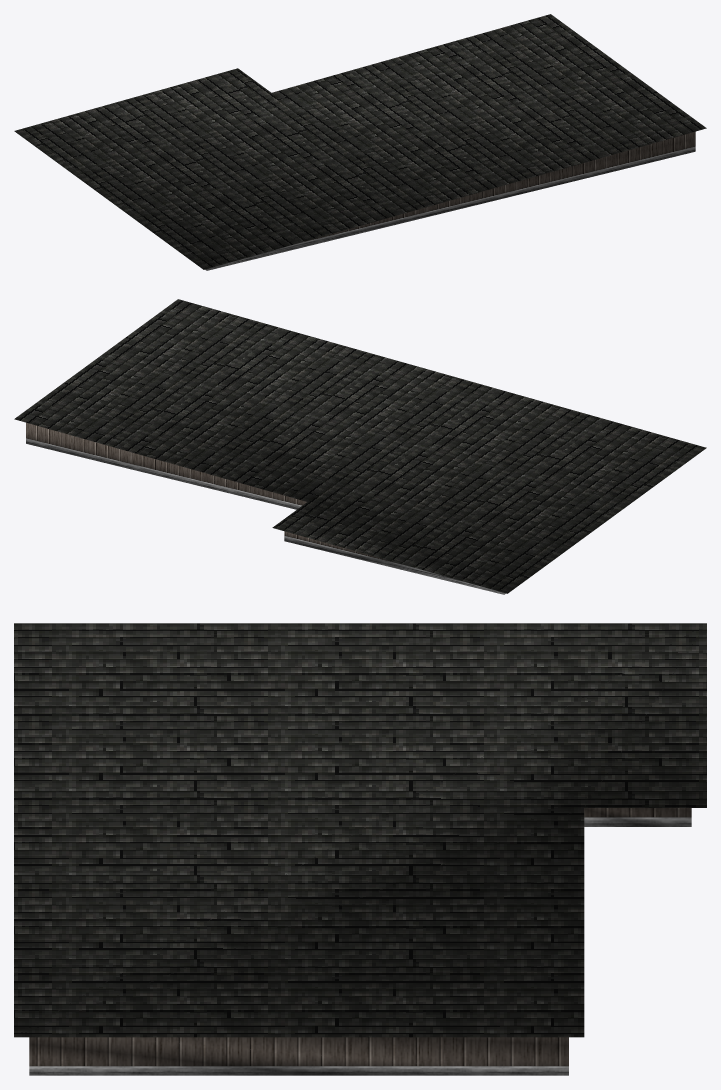
File: roof4.obj
The picture shows the model from 3 angles, top to bottom: view 1: azimuth 30°, elevation 25°; view 2: azimuth 150°, elevation 25°; view 3: azimuth 270°, elevation 25°; orthographic projection. The views are drawn at different scales.
Visible parts, largest first — view 1: top4, base4; view 2: top4, base4; view 3: top4, base4.
Boxes of the visible parts, x1,y1,x2,y2 form: top4: (14, 14, 706, 269); base4: (205, 131, 695, 270); top4: (14, 299, 706, 593); base4: (26, 422, 505, 594); top4: (14, 623, 706, 1037); base4: (29, 808, 691, 1075).
Size of the model in its own units: 692 by 32.4 by 452.
